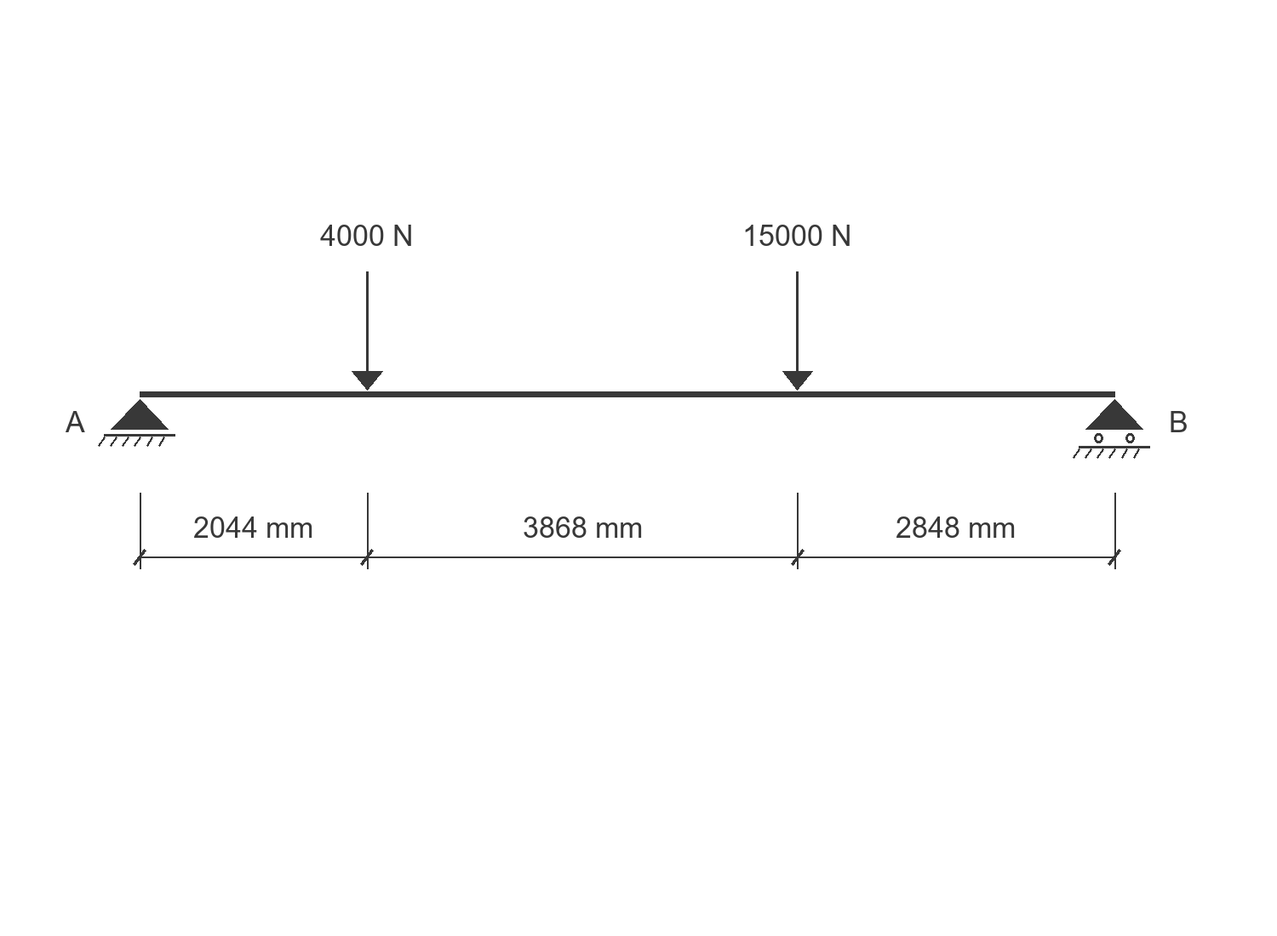pin_support: (98, 399, 175, 447)
point_load: (352, 271, 383, 391), (782, 271, 813, 391)
roller_support: (1073, 399, 1150, 459)
